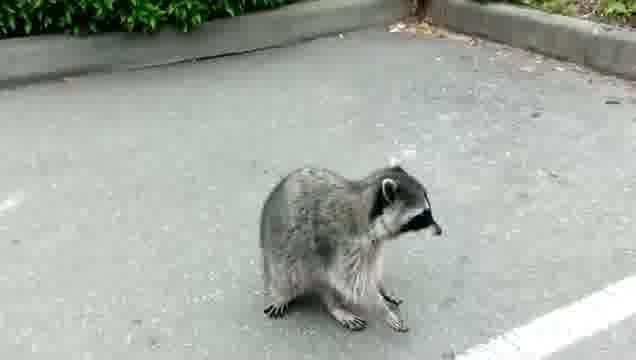raccoon: (260, 160, 444, 335)
